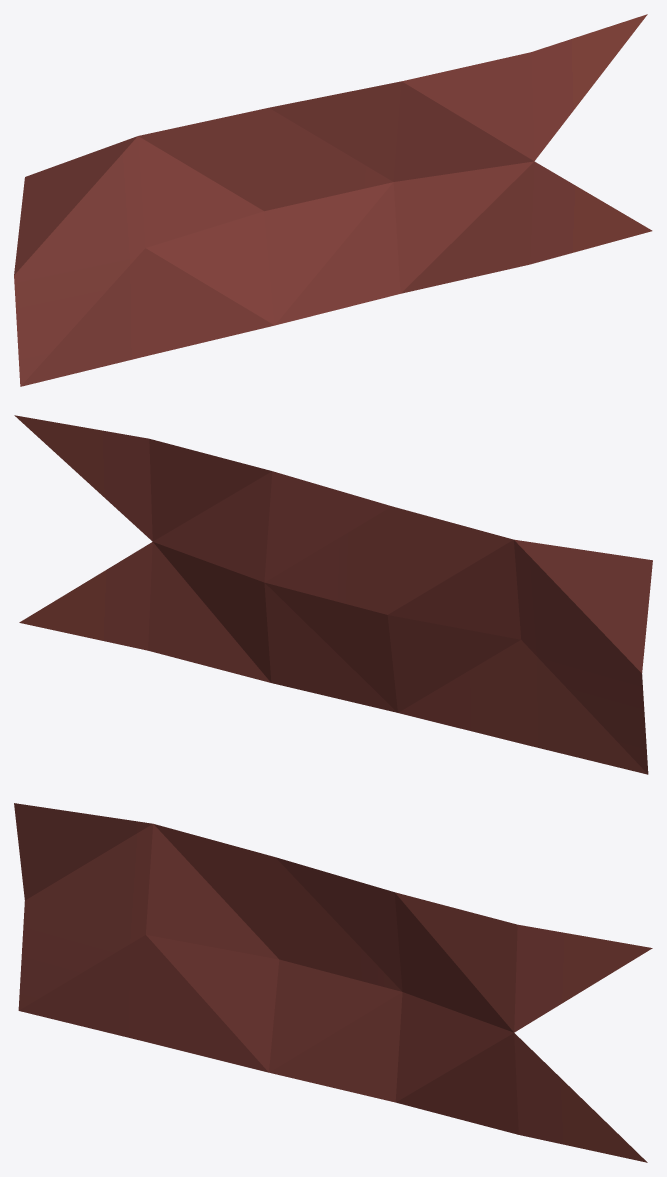
The model's file is plainsFlag03.fbx.
3 renders of one model, top to bottom at view 1: azimuth 30°, elevation 25°; view 2: azimuth 150°, elevation 25°; view 3: azimuth 330°, elevation 25°, orthographic.
Visible parts, largest first — view 1: plainsFlag03; view 2: plainsFlag03; view 3: plainsFlag03.
Part boxes in pixels (x1,y1,x2,y2): plainsFlag03: [14, 14, 652, 386]; plainsFlag03: [14, 415, 652, 774]; plainsFlag03: [14, 803, 652, 1162].
Bounding box in the file's own units: 0.5722 × 0.1839 × 0.0257.
